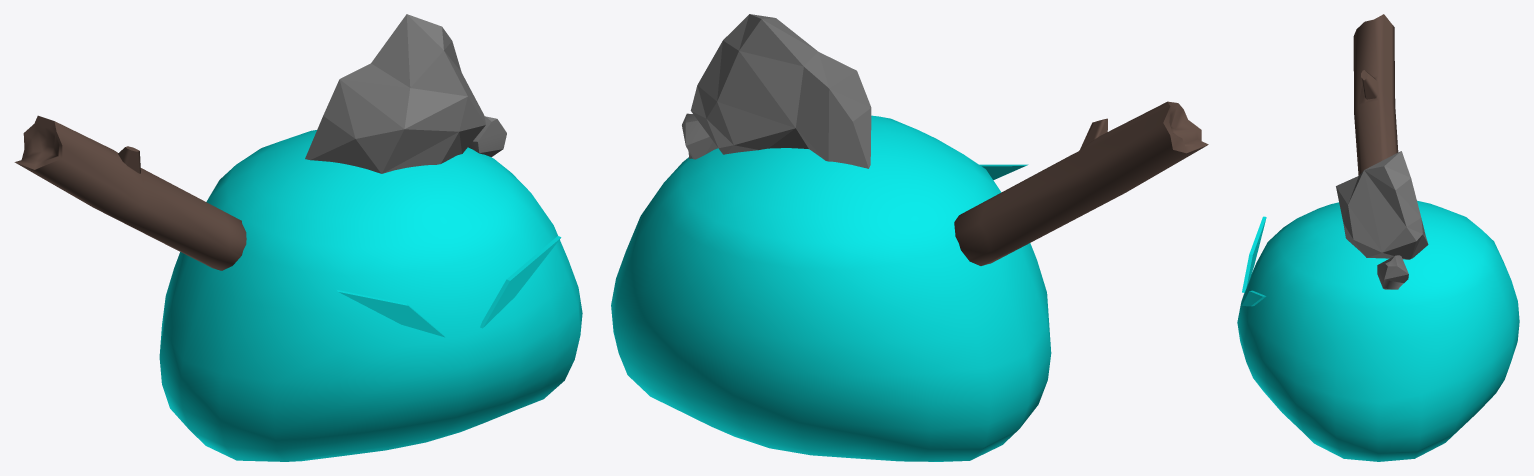
Rendered from M_Slime.fbx.
3 views of the same model, side by side, from view 1: azimuth 30°, elevation 25°; view 2: azimuth 150°, elevation 25°; view 3: azimuth 270°, elevation 25° (orthographic). The views are drawn at different scales.
Parts seen in each view (by area): view 1: Slimebody, big_rock, log, eye, rock; view 2: Slimebody, big_rock, log, rock; view 3: Slimebody, big_rock, log, rock, eye.
Boxes of the visible parts, bbox=[...] form: Slimebody: bbox=[159, 130, 582, 461]; big_rock: bbox=[305, 14, 485, 173]; log: bbox=[14, 115, 246, 270]; eye: bbox=[337, 236, 561, 337]; rock: bbox=[468, 116, 506, 157]; Slimebody: bbox=[611, 115, 1051, 461]; big_rock: bbox=[690, 14, 871, 168]; log: bbox=[954, 101, 1208, 265]; rock: bbox=[682, 113, 717, 159]; Slimebody: bbox=[1237, 200, 1519, 461]; big_rock: bbox=[1336, 151, 1428, 259]; log: bbox=[1353, 14, 1398, 175]; rock: bbox=[1377, 255, 1408, 289]; eye: bbox=[1242, 216, 1266, 306].
Size of the model in its own units: 23.8 by 16.17 by 14.36.
